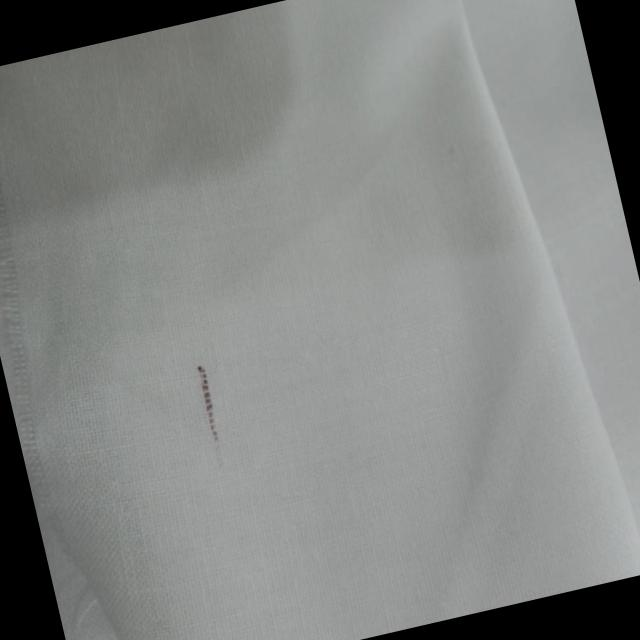contamination: (185, 356, 231, 454)
